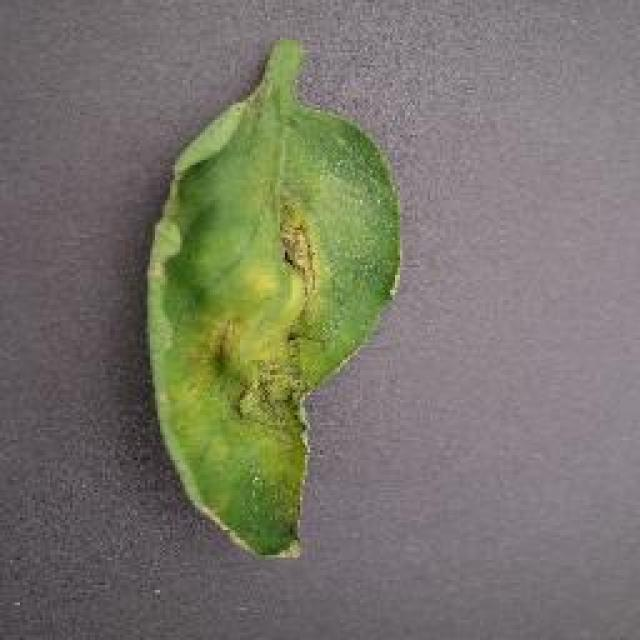Tomato___Late_blight: (140, 32, 410, 562)
